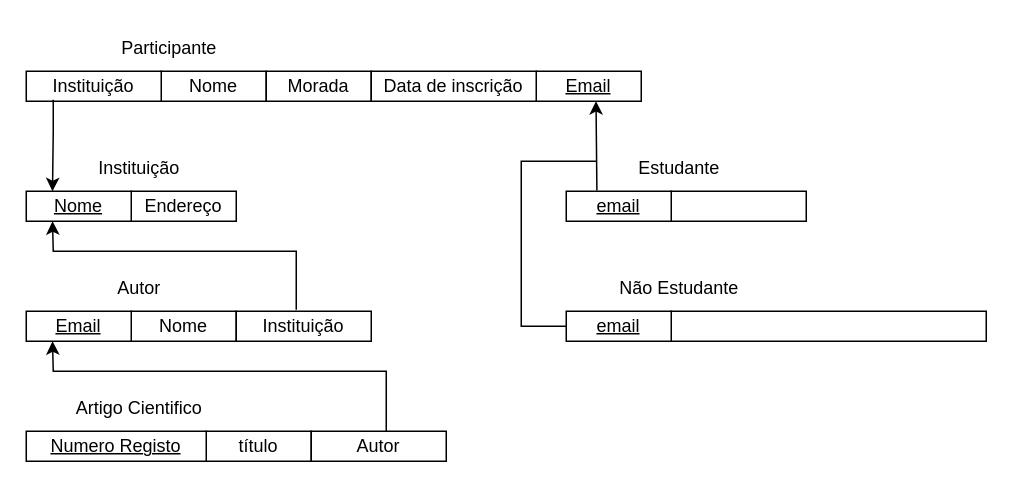
The diagram is 1013 pixels wide and 488 high, and some of its shapes have lost their labels. Each missing label, with the centre of its shape:
"Comprovativo" goes at (x=738, y=205).
"Referencia transição bancária" goes at (x=828, y=325).
